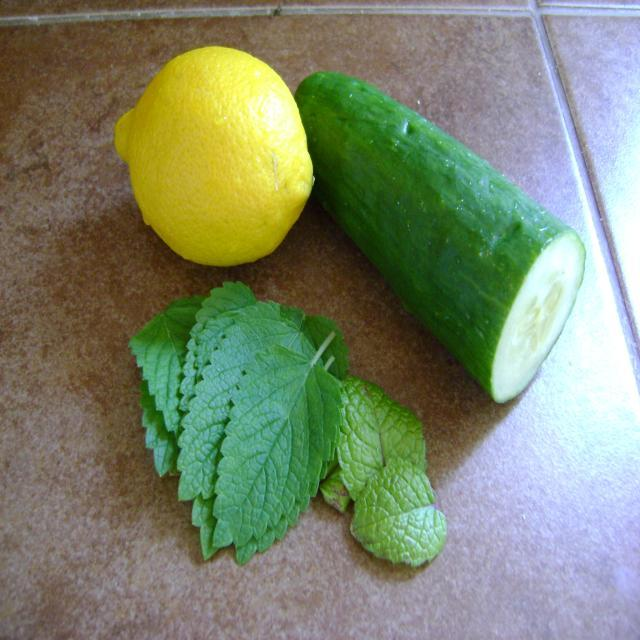cucumber: (295, 66, 589, 416)
